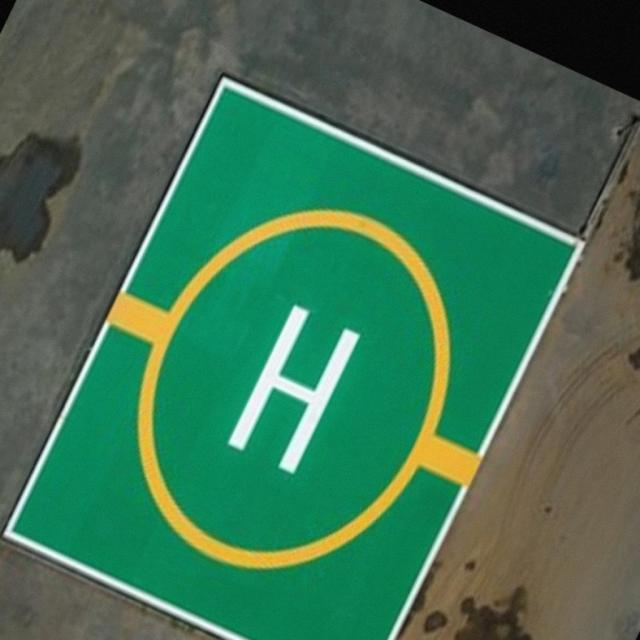helipad: (134, 206, 452, 574)
